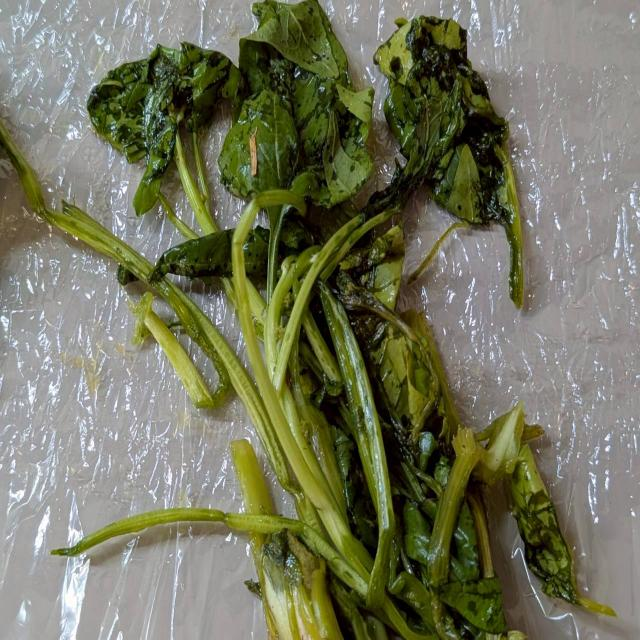rotten spinach: (1, 117, 613, 640), (133, 0, 598, 632), (222, 0, 571, 324), (238, 346, 539, 614), (93, 35, 259, 242)
